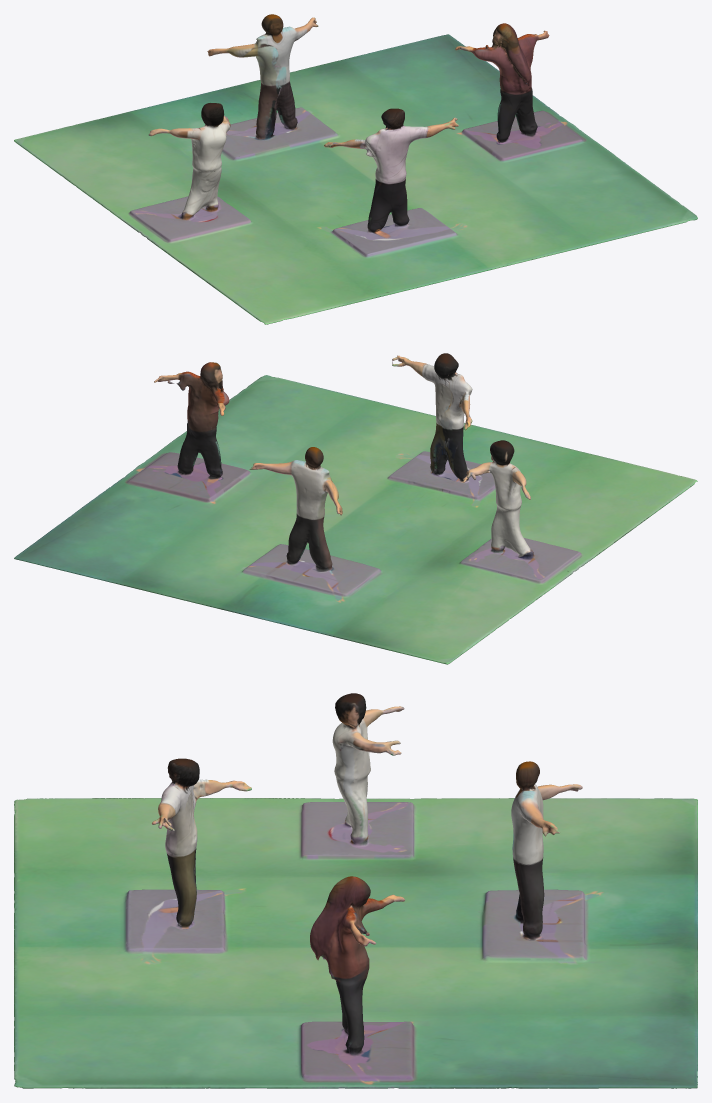
File: Forest_Yoga_Session_0821060315_texture.fbx
The picture shows the model from 3 angles, top to bottom: view 1: azimuth 30°, elevation 25°; view 2: azimuth 150°, elevation 25°; view 3: azimuth 270°, elevation 25°; orthographic projection. The views are drawn at different scales.
Parts seen in each view (by area): view 1: input; view 2: input; view 3: input.
Part boxes in pixels (<box>): input: <box>14,14,697,324</box>; input: <box>14,353,697,664</box>; input: <box>14,693,697,1088</box>.
Size of the model in its own units: 200 by 54.21 by 200.
1 material, 1 textured.
